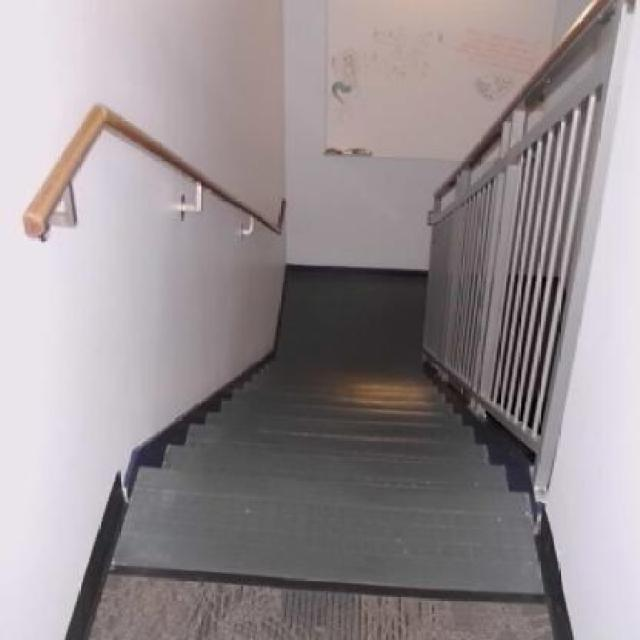stair: (55, 25, 570, 618)
